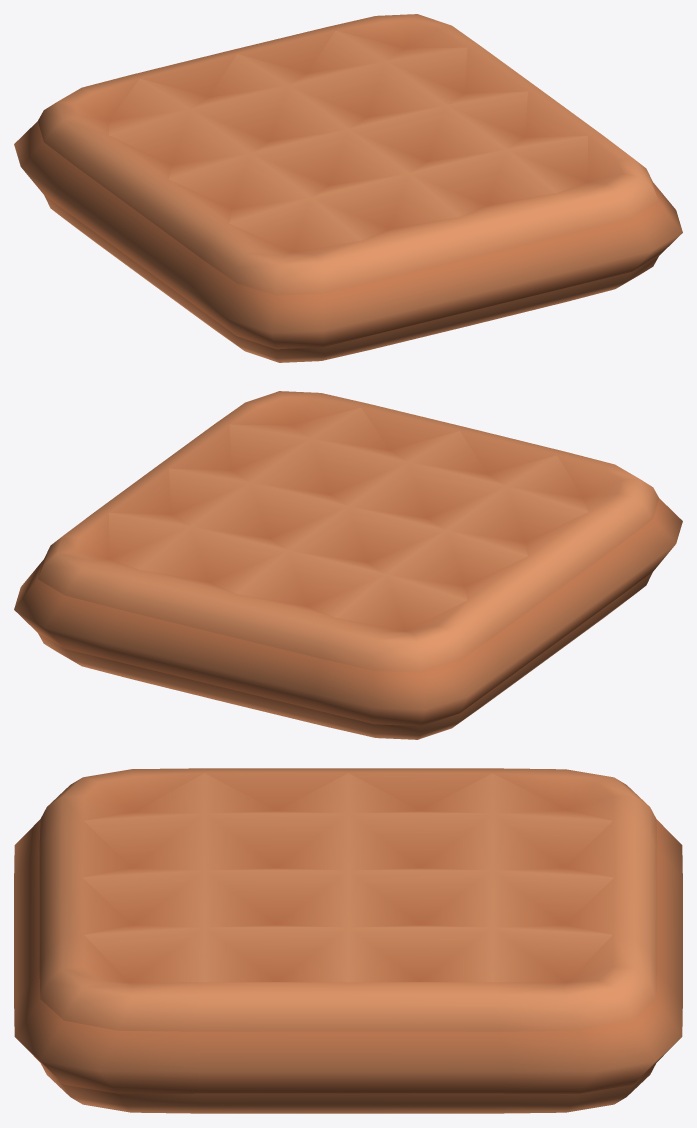
File: waffle.obj
3 views of the same model, one above another, from view 1: azimuth 30°, elevation 25°; view 2: azimuth 150°, elevation 25°; view 3: azimuth 270°, elevation 25° (orthographic). The views are drawn at different scales.
Parts seen in each view (by area): view 1: waffle; view 2: waffle; view 3: waffle.
Part boxes in pixels (x1,y1,x2,y2): waffle: (14, 14, 682, 362); waffle: (14, 391, 682, 739); waffle: (14, 768, 682, 1113).
Size of the model in its own units: 0.5155 by 0.1299 by 0.5576.
Materials: 1 (1 with a texture image).
